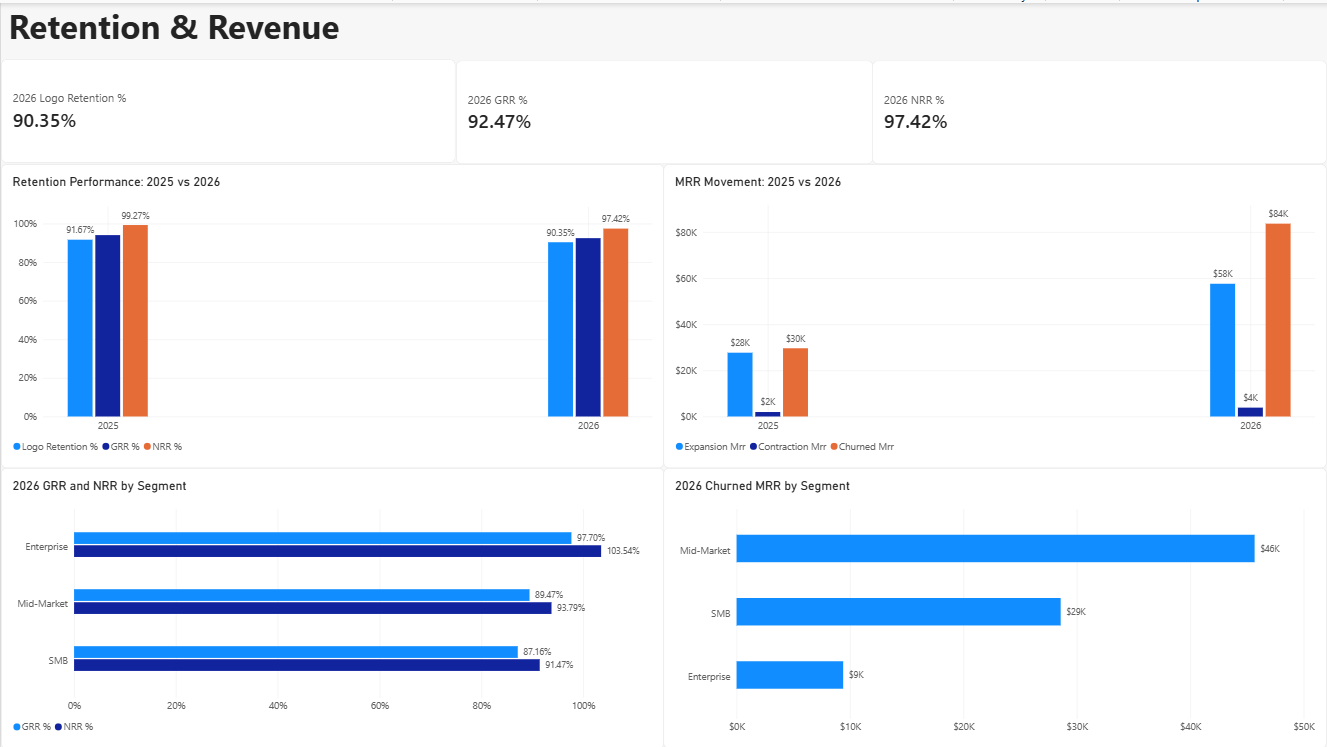

This screenshot's page, from the dashboard's own definition file:
{"tool":"powerbi","page":{"name":"Retention & Revenue","canvas":[1920,1080],"ordinal":3},"visuals":[{"type":"textbox","box":[10,0,1052,66],"z":0},{"type":"cardVisual","fields":{"Data":["Account Health.2026 Logo Retention %"]},"box":[0,82,658,150],"z":1000},{"type":"cardVisual","fields":{"Data":["Account Health.2026 GRR %"]},"box":[658,84,604,150],"z":2000},{"type":"cardVisual","fields":{"Data":["Account Health.2026 NRR %"]},"box":[1262,84,658,150],"z":3000},{"type":"clusteredColumnChart","title":"Retention Performance: 2025 vs 2026","fields":{"Category":["Retention Summary.analysis_year"],"Y":["Retention Summary.Logo Retention %","Retention Summary.GRR %","Retention Summary.NRR %"]},"box":[0,232.9,960,440],"z":4000},{"type":"clusteredColumnChart","title":"MRR Movement: 2025 vs 2026","fields":{"Category":["Retention Summary.analysis_year"],"Y":["Sum(Retention Summary.expansion_mrr)","Sum(Retention Summary.contraction_mrr)","Sum(Retention Summary.churned_mrr)"]},"box":[960,232.9,960,440],"z":5000},{"type":"clusteredBarChart","title":"2026 GRR and NRR by Segment","fields":{"Category":["Retention Summary.segment"],"Y":["Retention Summary.GRR %","Retention Summary.NRR %"]},"box":[0,674,960,406],"z":6000},{"type":"clusteredBarChart","title":"2026 Churned MRR by Segment","fields":{"Category":["Retention Summary.segment"],"Y":["Sum(Retention Summary.churned_mrr)"]},"box":[960,674,960,406],"z":7000}]}

Visuals, with their boxes in screenshot pixels (x1, y1, x2, y2), scaled from the page's 1920x1080 canvas onto the 1327x747 screenshot:
textbox: {"left": 7, "top": 0, "right": 734, "bottom": 46}
cardVisual - Account Health.2026 Logo Retention %: {"left": 0, "top": 57, "right": 455, "bottom": 160}
cardVisual - Account Health.2026 GRR %: {"left": 455, "top": 58, "right": 872, "bottom": 162}
cardVisual - Account Health.2026 NRR %: {"left": 872, "top": 58, "right": 1326, "bottom": 162}
"Retention Performance: 2025 vs 2026" clusteredColumnChart: {"left": 0, "top": 161, "right": 664, "bottom": 465}
"MRR Movement: 2025 vs 2026" clusteredColumnChart: {"left": 664, "top": 161, "right": 1326, "bottom": 465}
"2026 GRR and NRR by Segment" clusteredBarChart: {"left": 0, "top": 466, "right": 664, "bottom": 746}
"2026 Churned MRR by Segment" clusteredBarChart: {"left": 664, "top": 466, "right": 1326, "bottom": 746}
